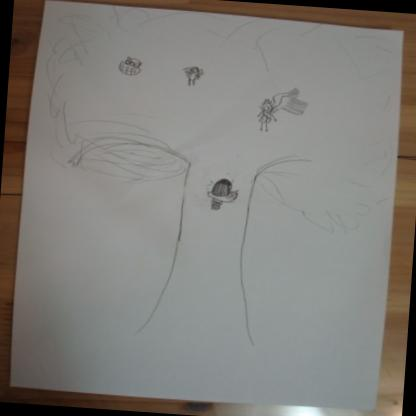crown_cloud: (36, 2, 404, 235)
trunk_straight: (156, 202, 264, 309)
